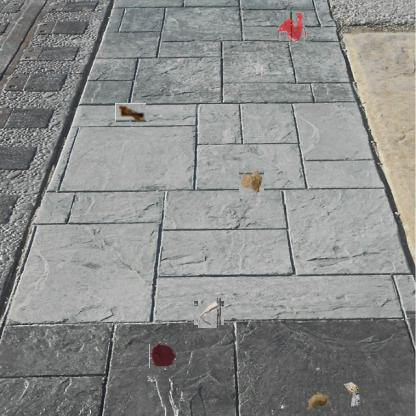dirty: (238, 167, 264, 195), (196, 300, 223, 326), (115, 103, 146, 122), (305, 390, 331, 412), (342, 382, 362, 408)
liquid: (278, 12, 306, 40), (150, 344, 176, 369)
